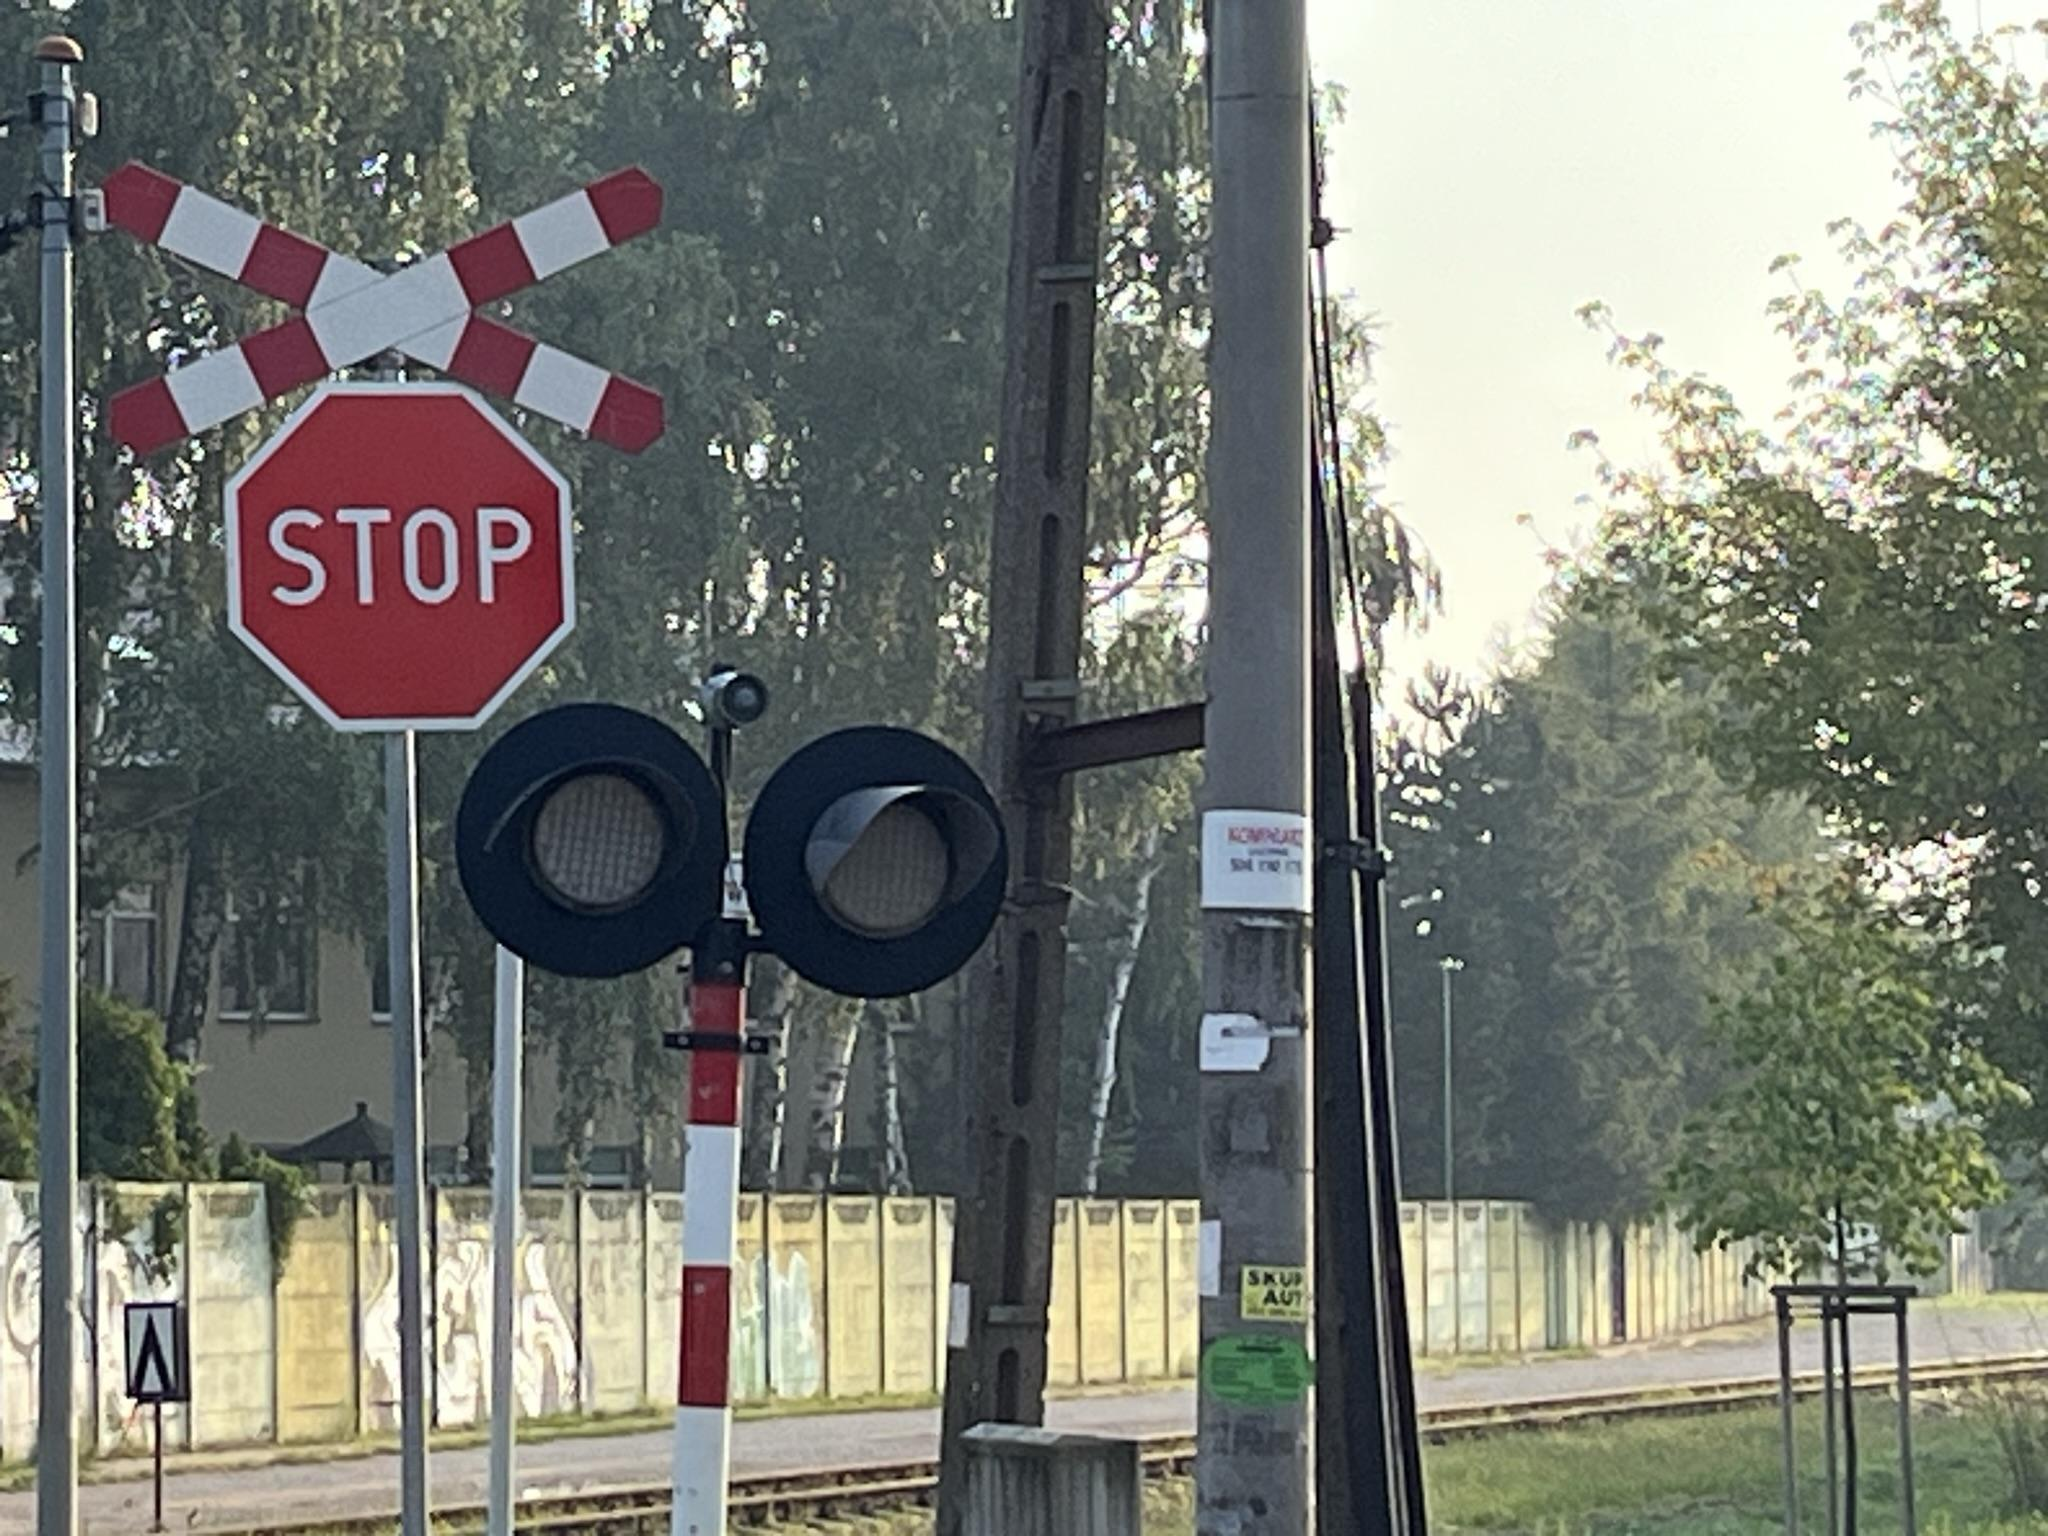prohibitory: (219, 381, 576, 729)
